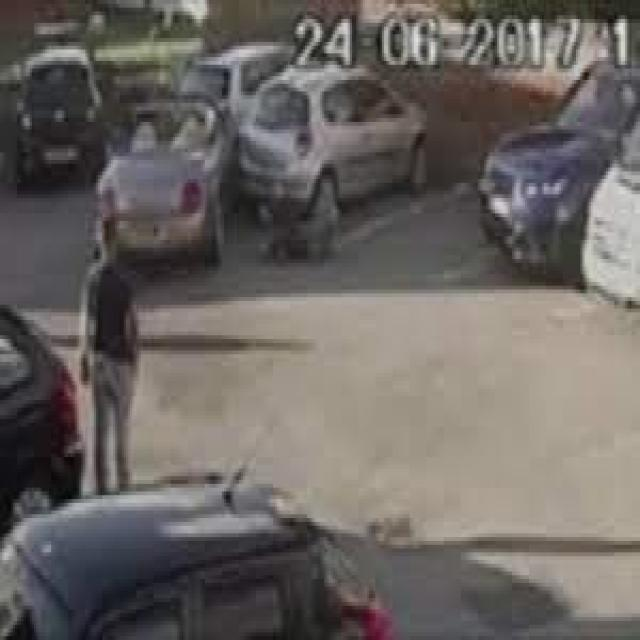multiple_accident: (106, 21, 276, 219)
